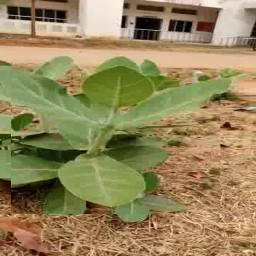CALOTROPIS: (12, 57, 222, 215)
